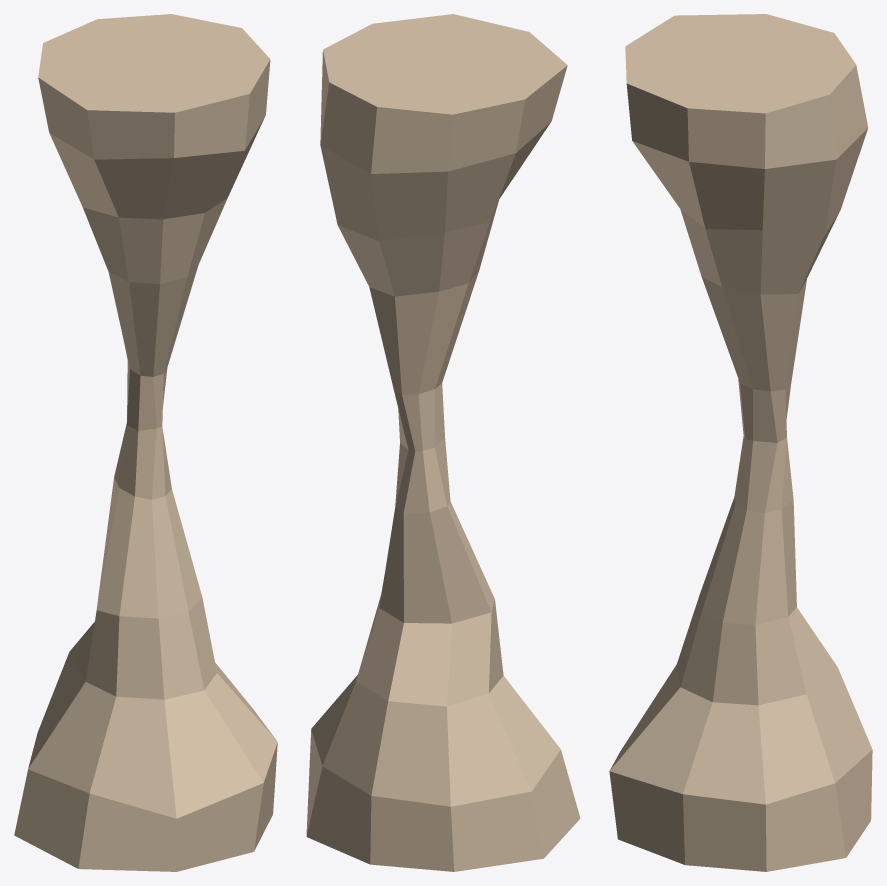
The model's file is Stalagtite_3.fbx.
The picture shows the model from 3 angles, left to right: view 1: azimuth 30°, elevation 25°; view 2: azimuth 150°, elevation 25°; view 3: azimuth 270°, elevation 25°; orthographic projection.
Visible parts, largest first — view 1: Stalagtite_3; view 2: Stalagtite_3; view 3: Stalagtite_3.
Part boxes in pixels (<box>): Stalagtite_3: <box>14,14,277,871</box>; Stalagtite_3: <box>306,14,580,871</box>; Stalagtite_3: <box>609,14,872,871</box>.
Bounding box in the file's own units: 250 × 763 × 241.
